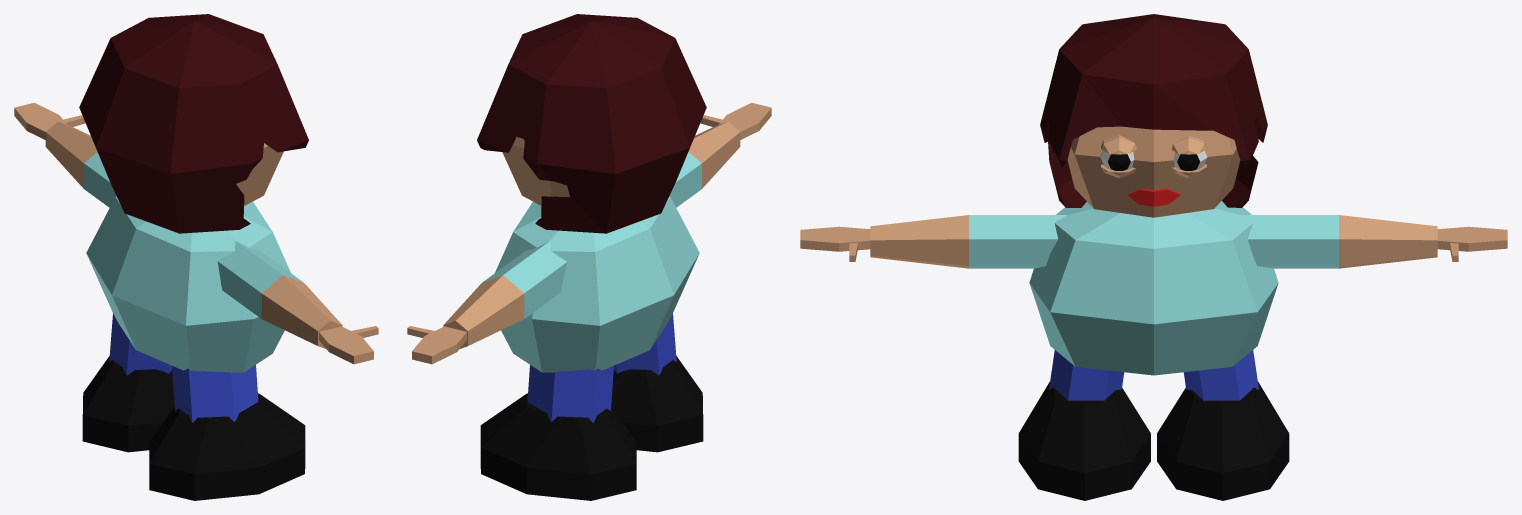
Rendered from sharon 1.7a.fbx.
3 renders of one model, left to right at view 1: azimuth 30°, elevation 25°; view 2: azimuth 150°, elevation 25°; view 3: azimuth 270°, elevation 25°, orthographic. The views are drawn at different scales.
Visible parts, largest first — view 1: hair, body, foot.001, foot, arm.003, forearm.001, arm.002, forearm, arm.001, head, arm, fingers.001 (+3 smaller); view 2: hair, body, foot, foot.001, arm.001, forearm, arm, forearm.001, head, arm.003, arm.002, fingers (+3 smaller); view 3: body, hair, foot.001, foot, head, arm, arm.002, forearm.001, forearm, arm.001, arm.003, eyelids (+3 smaller).
Part boxes in pixels (<box>): hair: <box>79,14,308,233</box>; body: <box>86,196,290,372</box>; foot.001: <box>149,393,305,500</box>; foot: <box>82,356,174,452</box>; arm.003: <box>172,365,258,422</box>; forearm.001: <box>261,275,342,348</box>; arm.002: <box>217,241,303,318</box>; forearm: <box>45,121,97,188</box>; arm.001: <box>109,313,172,375</box>; head: <box>236,143,283,205</box>; arm: <box>84,152,116,207</box>; fingers.001: <box>329,336,373,364</box>; hair: <box>477,14,706,233</box>; body: <box>495,196,699,372</box>; foot: <box>480,393,636,500</box>; foot.001: <box>611,356,703,452</box>; arm.001: <box>527,365,613,422</box>; forearm: <box>443,275,524,348</box>; arm: <box>482,241,566,318</box>; forearm.001: <box>688,121,740,188</box>; head: <box>502,136,569,205</box>; arm.003: <box>613,313,676,375</box>; arm.002: <box>669,152,701,207</box>; fingers: <box>412,336,456,364</box>; body: <box>1029,201,1278,375</box>; hair: <box>1040,14,1267,207</box>; foot.001: <box>1018,382,1150,500</box>; foot: <box>1157,382,1289,500</box>; head: <box>1067,126,1240,217</box>; arm: <box>1241,215,1338,268</box>; arm.002: <box>969,215,1066,268</box>; forearm.001: <box>870,215,968,268</box>; forearm: <box>1339,215,1437,268</box>; arm.001: <box>1183,350,1258,400</box>; arm.003: <box>1049,350,1124,400</box>; eyelids: <box>1101,134,1206,178</box>.
Bounding box in the file's own units: 220 × 495 × 716.
